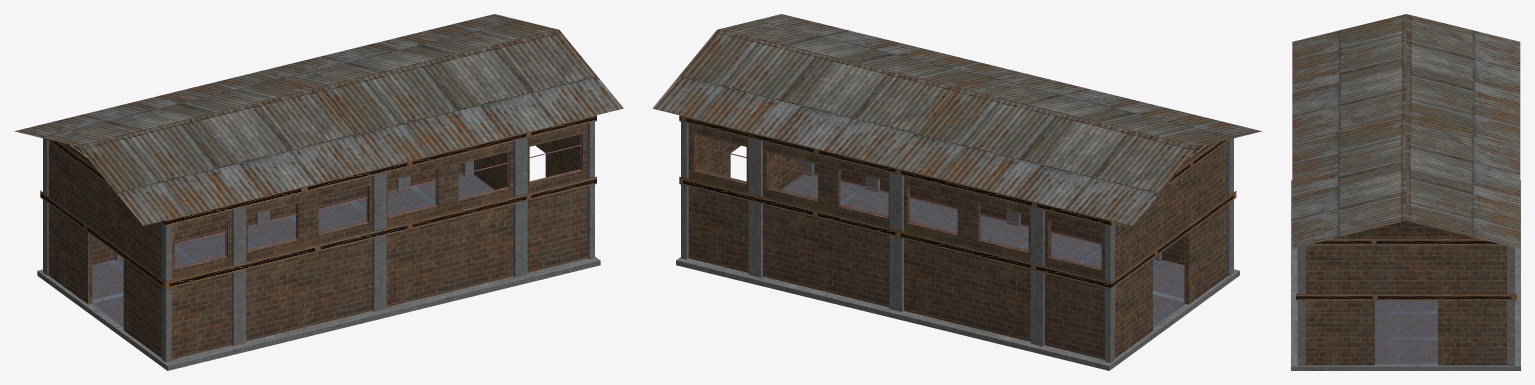
The model's file is Building_WarehouseA_2048_lod2.glb.
The picture shows the model from 3 angles, left to right: view 1: azimuth 30°, elevation 25°; view 2: azimuth 150°, elevation 25°; view 3: azimuth 270°, elevation 25°; orthographic projection. The views are drawn at different scales.
Visible parts, largest first — view 1: xiutz_warehouse_a_lod2; view 2: xiutz_warehouse_a_lod2; view 3: xiutz_warehouse_a_lod2.
Part boxes in pixels (x1=…): xiutz_warehouse_a_lod2: x1=15, y1=14, x2=623, y2=370; xiutz_warehouse_a_lod2: x1=652, y1=14, x2=1261, y2=370; xiutz_warehouse_a_lod2: x1=1291, y1=14, x2=1520, y2=370.
Bounding box in the file's own units: 33.84 × 12.23 × 15.89.
Materials: 1 (1 with a texture image).
